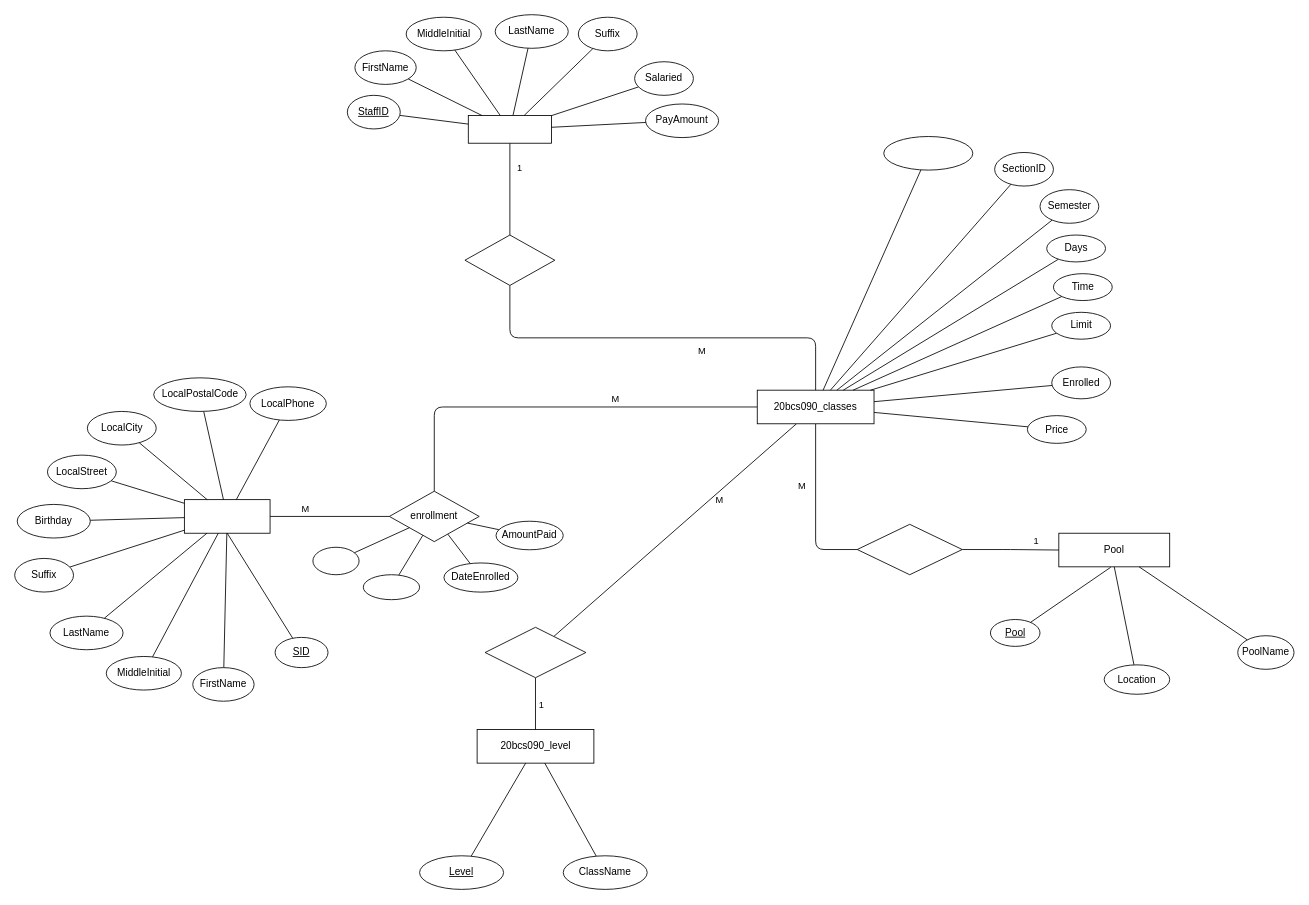
The diagram is 1309 pixels wide and 905 high, and some of its shapes have lost their labels. The centre of each missing label's shape, as x and y in pixels:
20bc090_staff: the point at 509,129
20bcs054_student: the point at 227,516
Arranged: the point at 909,549
Charged: the point at 391,587
has: the point at 535,652
LessonIndex: the point at 928,153
Status: the point at 335,560
Teaches: the point at 509,259
